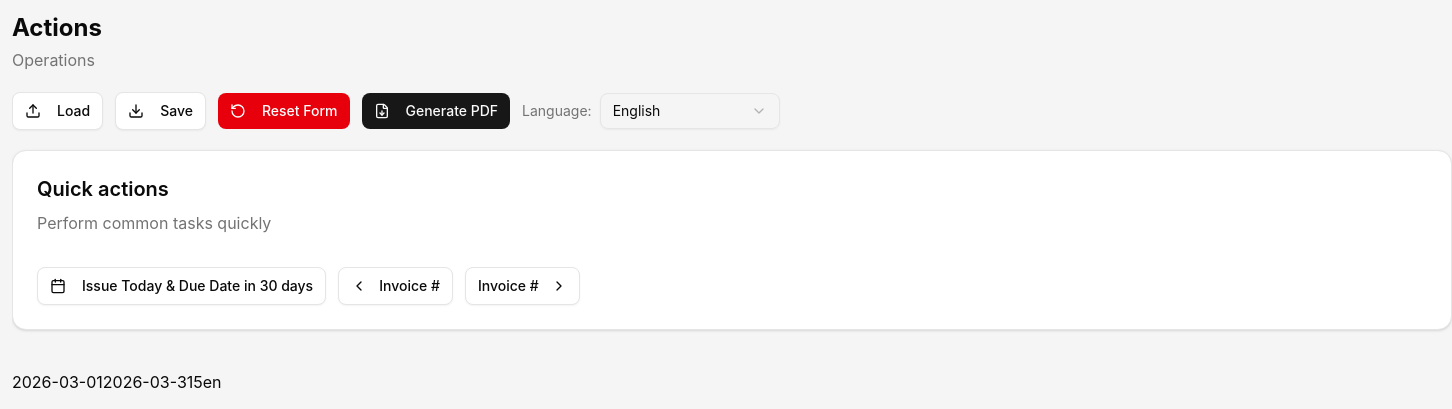
Test case: Actions › decrements the invoice number
Expected: the text with test id "invoiceNumber" reads "5", x1=193 y1=372 x2=203 y2=392
Decrement button is the first one (left chevron)
Click the 1st button "Invoice #" at (396, 286), box x1=338 y1=267 x2=453 y2=305
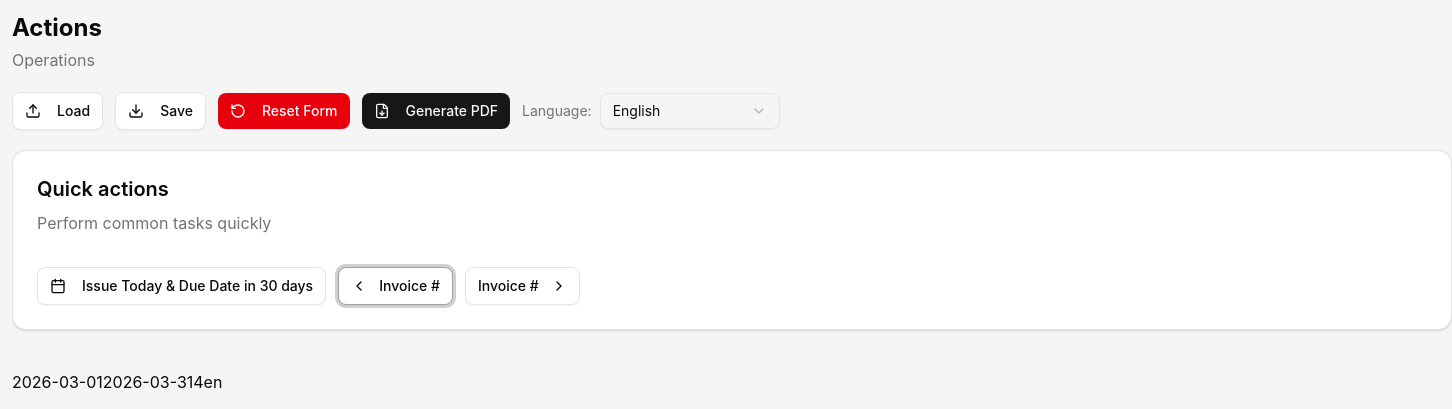
Expected: the text with test id "invoiceNumber" reads "4", x1=193 y1=372 x2=204 y2=392
